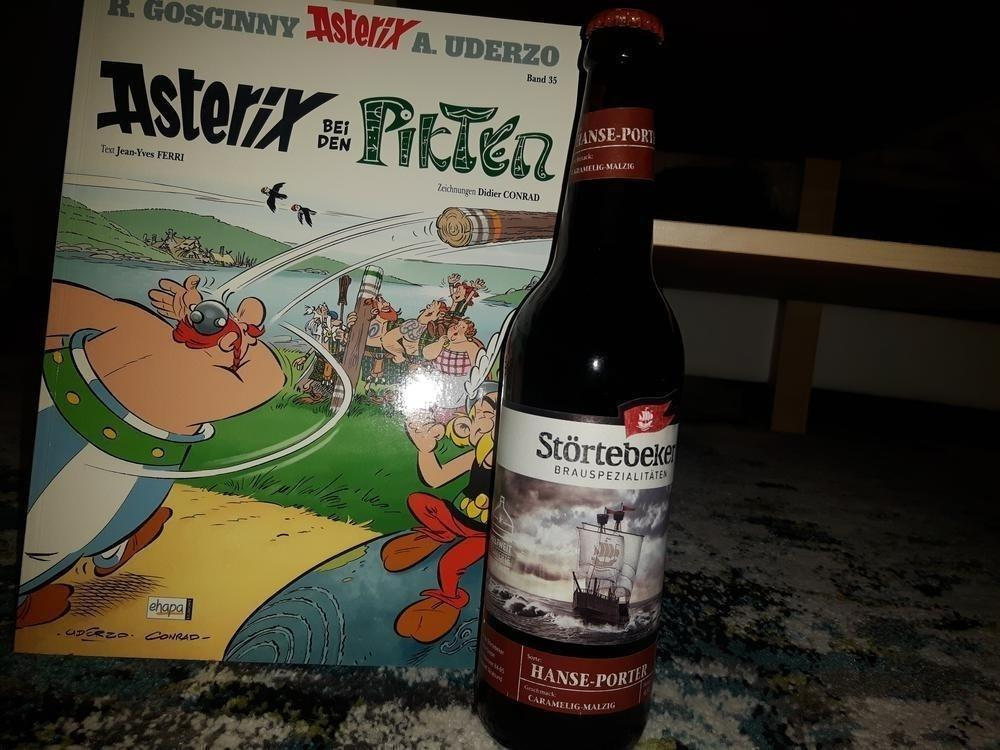bottle-glass: (474, 3, 689, 747)
